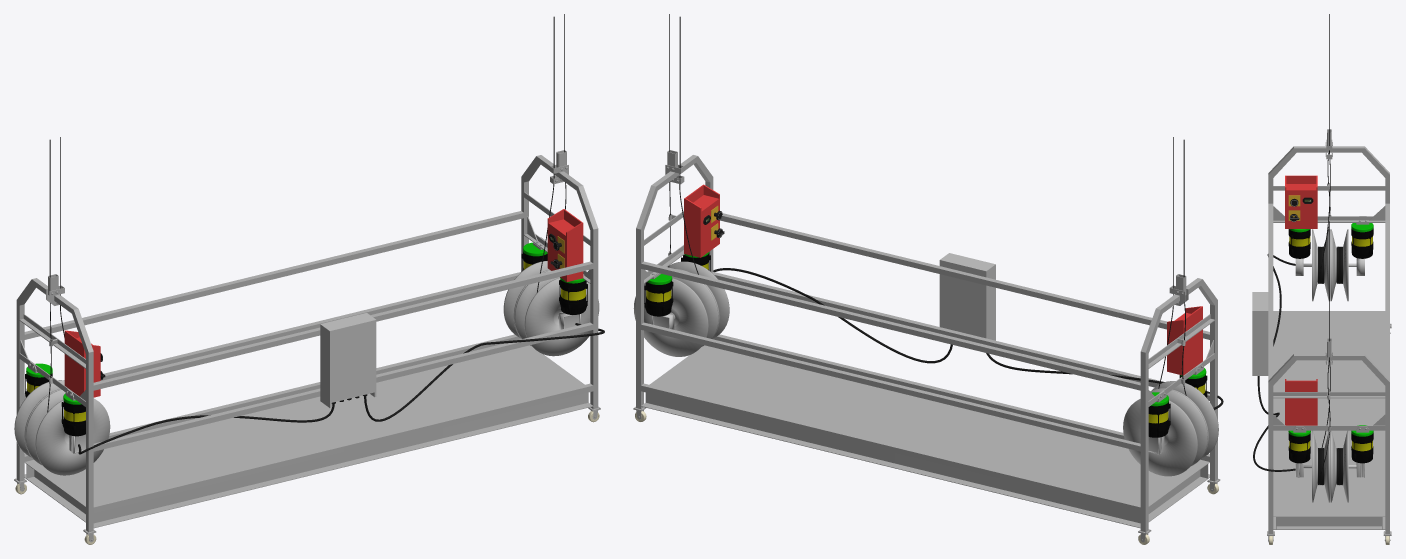
File: window-cleaners-platform-for-skyscraper-3d-asset.gltf
3 renders of one model, left to right at view 1: azimuth 30°, elevation 25°; view 2: azimuth 150°, elevation 25°; view 3: azimuth 270°, elevation 25°, orthographic. The views are drawn at different scales.
Parts seen in each view (by area): view 1: U_Channel_50x50mm.006, Cylinder.013, Cube.036, Cylinder.017, Cube.037, Cube.027, Generator_frame.004, Generator_frame.002, object 40, object 42; view 2: U_Channel_50x50mm.006, Cylinder.013, Cylinder.017, Cube.036, Cube.037, Cube.027, Generator_frame.001, Generator_frame.003, object 40; view 3: U_Channel_50x50mm.006, Cube.027, Cylinder.013, Cylinder.017, Cube.036, Cube.037, Generator_frame.003, Generator_frame.001, Generator_frame.004, Generator_frame.002, object 40, object 29 (+2 smaller).
Boxes of the visible parts, <box> form: U_Channel_50x50mm.006: <box>14,150,600,533</box>; Cylinder.013: <box>14,380,110,475</box>; Cube.036: <box>320,313,376,407</box>; Cylinder.017: <box>503,261,599,356</box>; Cube.037: <box>547,209,583,281</box>; Cube.027: <box>64,330,105,397</box>; Generator_frame.004: <box>557,277,587,329</box>; Generator_frame.002: <box>61,393,85,453</box>; object 40: <box>364,323,604,421</box>; object 42: <box>78,404,334,454</box>; U_Channel_50x50mm.006: <box>633,150,1220,534</box>; Cylinder.013: <box>1123,381,1218,476</box>; Cylinder.017: <box>633,261,729,356</box>; Cube.036: <box>939,253,995,340</box>; Cube.037: <box>684,184,724,257</box>; Cube.027: <box>1167,306,1202,375</box>; Generator_frame.001: <box>644,274,675,329</box>; Generator_frame.003: <box>1148,392,1170,454</box>; object 40: <box>713,268,952,363</box>; U_Channel_50x50mm.006: <box>1267,129,1391,535</box>; Cube.027: <box>1285,175,1317,228</box>; Cylinder.013: <box>1312,229,1348,301</box>; Cylinder.017: <box>1312,430,1348,502</box>; Cube.036: <box>1252,292,1268,375</box>; Cube.037: <box>1285,379,1317,425</box>; Generator_frame.003: <box>1348,223,1373,275</box>; Generator_frame.001: <box>1348,425,1373,477</box>; Generator_frame.004: <box>1288,430,1311,477</box>; Generator_frame.002: <box>1288,229,1311,275</box>; object 40: <box>1253,376,1295,471</box>; object 29: <box>1318,18,1330,278</box>.
Size of the model in its own units: 3.38 by 2.18 by 0.8599.
